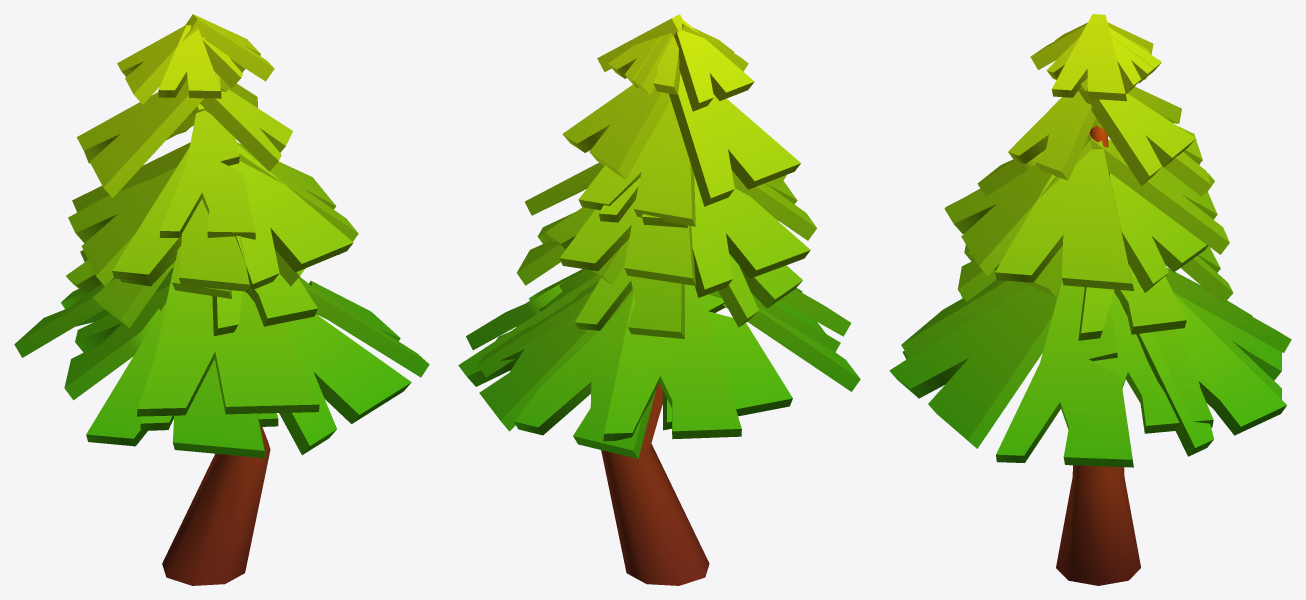
Rendered from tree-1.glb.
The picture shows the model from 3 angles, left to right: view 1: azimuth 30°, elevation 25°; view 2: azimuth 150°, elevation 25°; view 3: azimuth 270°, elevation 25°; orthographic projection.
Parts seen in each view (by area): view 1: 01-tree-root_gradinet-image-texure_0; view 2: 01-tree-root_gradinet-image-texure_0; view 3: 01-tree-root_gradinet-image-texure_0.
Boxes of the visible parts, left/top/right/bottom form: 01-tree-root_gradinet-image-texure_0: left=14, top=14, right=429, bottom=585; 01-tree-root_gradinet-image-texure_0: left=458, top=14, right=860, bottom=585; 01-tree-root_gradinet-image-texure_0: left=889, top=14, right=1291, bottom=585.
Bounding box in the file's own units: 7.38 × 11.49 × 7.63.
1 material, 1 textured.
